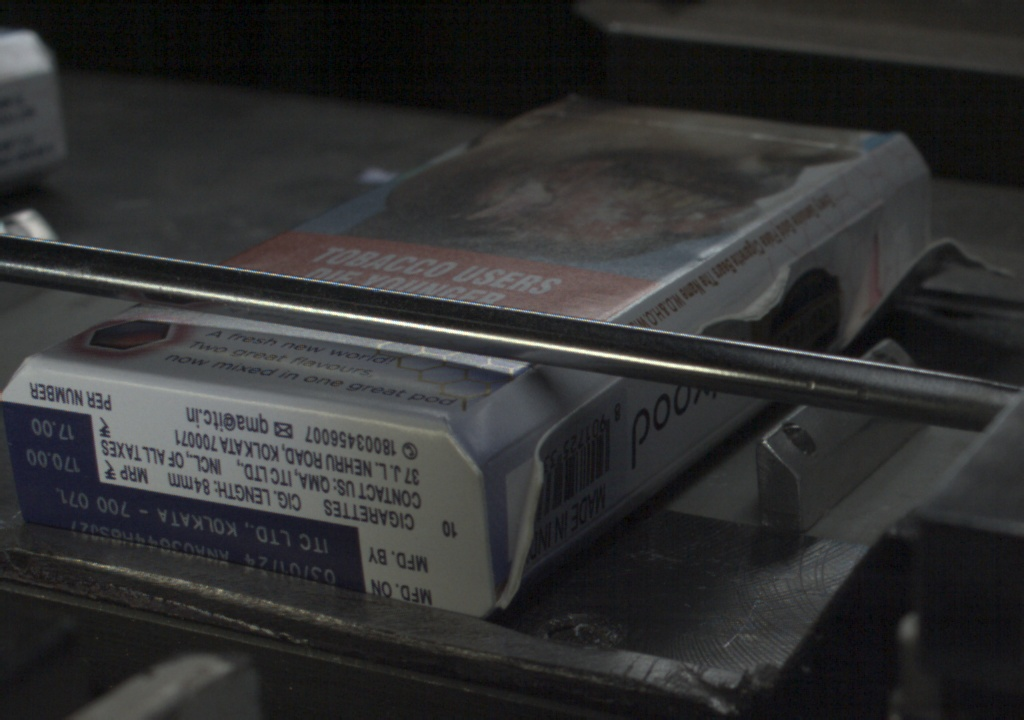g_bottom: (2, 355, 496, 617)
g_label: (12, 479, 371, 600)
ng_lmiter: (491, 435, 550, 613), (706, 266, 793, 326)
ng_miter: (901, 202, 1004, 280)
price: (7, 407, 95, 478)
